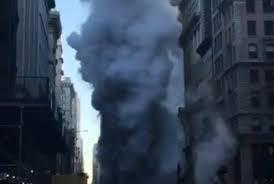smoke: (74, 1, 178, 183)
